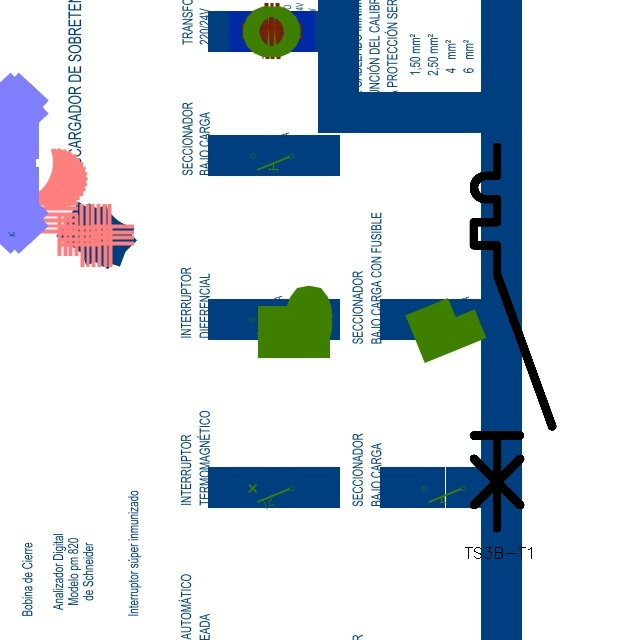interruptor_termomagnetico: (464, 137, 562, 538)
